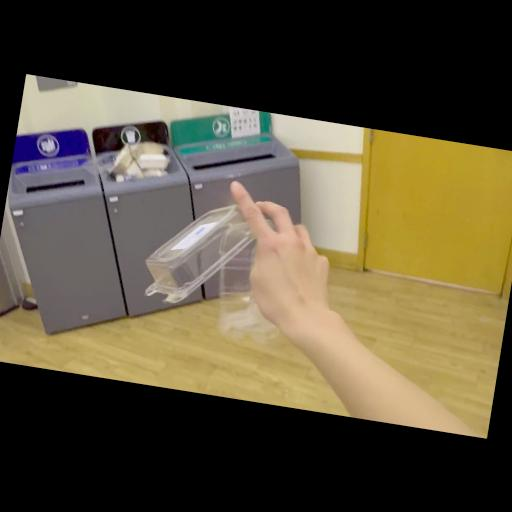small_plastic_container: (136, 191, 298, 351)
